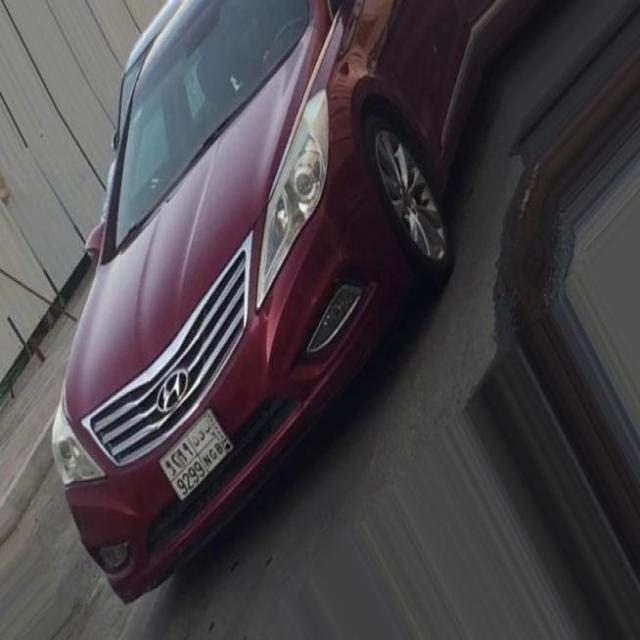Car-plate: (151, 389, 250, 512)
